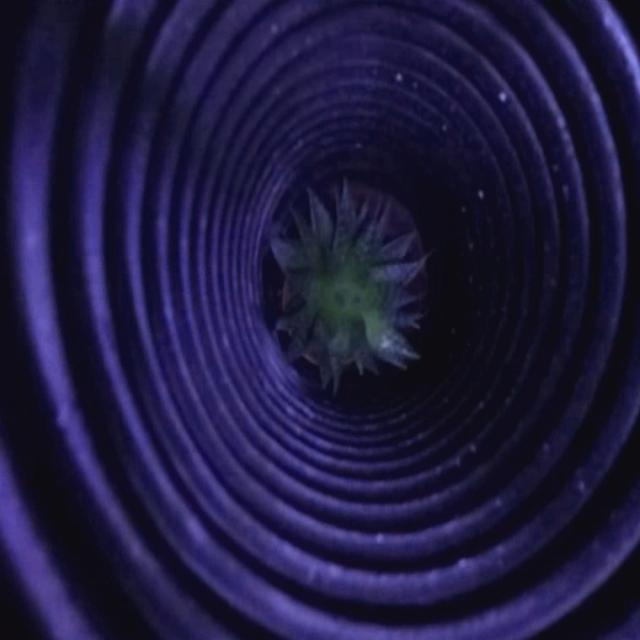leaf: (279, 194, 419, 371)
